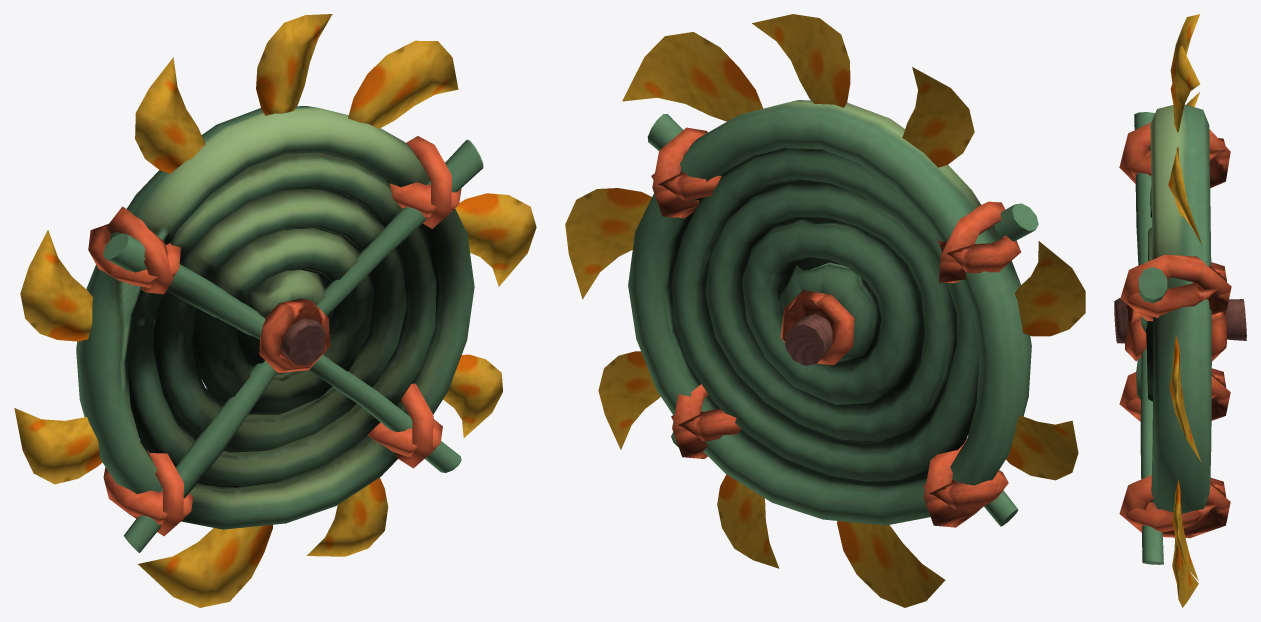
Rendered from saw blade.fbx.
3 views of the same model, side by side, from view 1: azimuth 30°, elevation 25°; view 2: azimuth 150°, elevation 25°; view 3: azimuth 270°, elevation 25° (orthographic). The views are drawn at different scales.
Visible parts, largest first — view 1: saw; view 2: saw; view 3: saw.
Part boxes in pixels (x1,y1,x2,y2): saw: (14, 14, 536, 607); saw: (565, 14, 1085, 607); saw: (1114, 14, 1246, 607).
Bounding box in the file's own units: 78.84 × 82.39 × 18.33.
